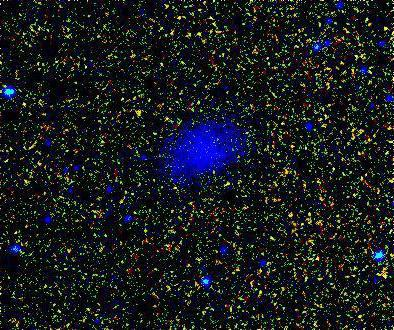star: (124, 97, 154, 127)
